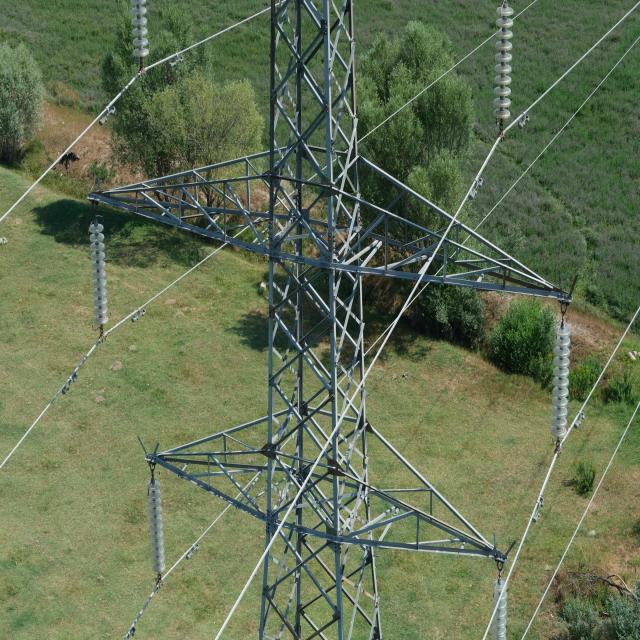direk: (167, 0, 492, 640)
tree: (351, 32, 462, 256), (110, 65, 252, 206), (1, 39, 40, 164), (500, 304, 554, 384)
